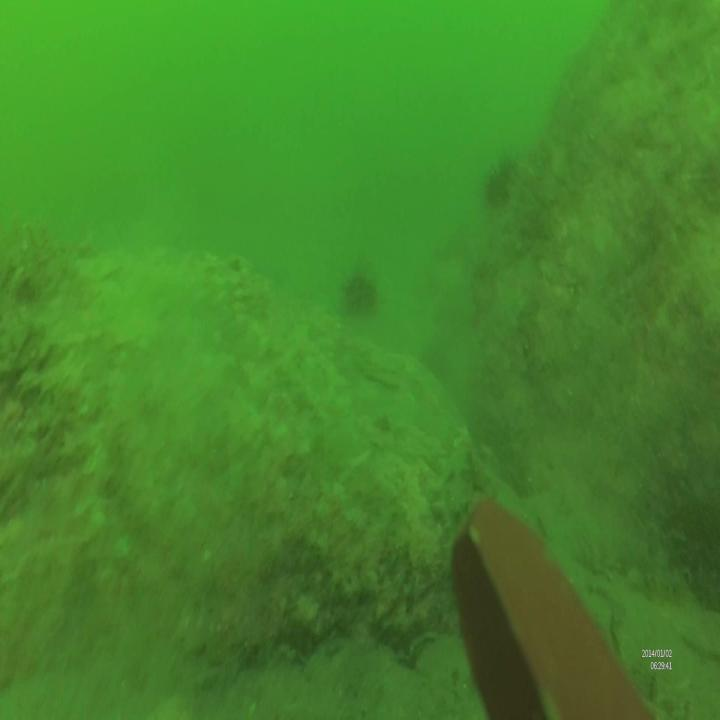echinus: (342, 262, 380, 325), (481, 154, 519, 210)
